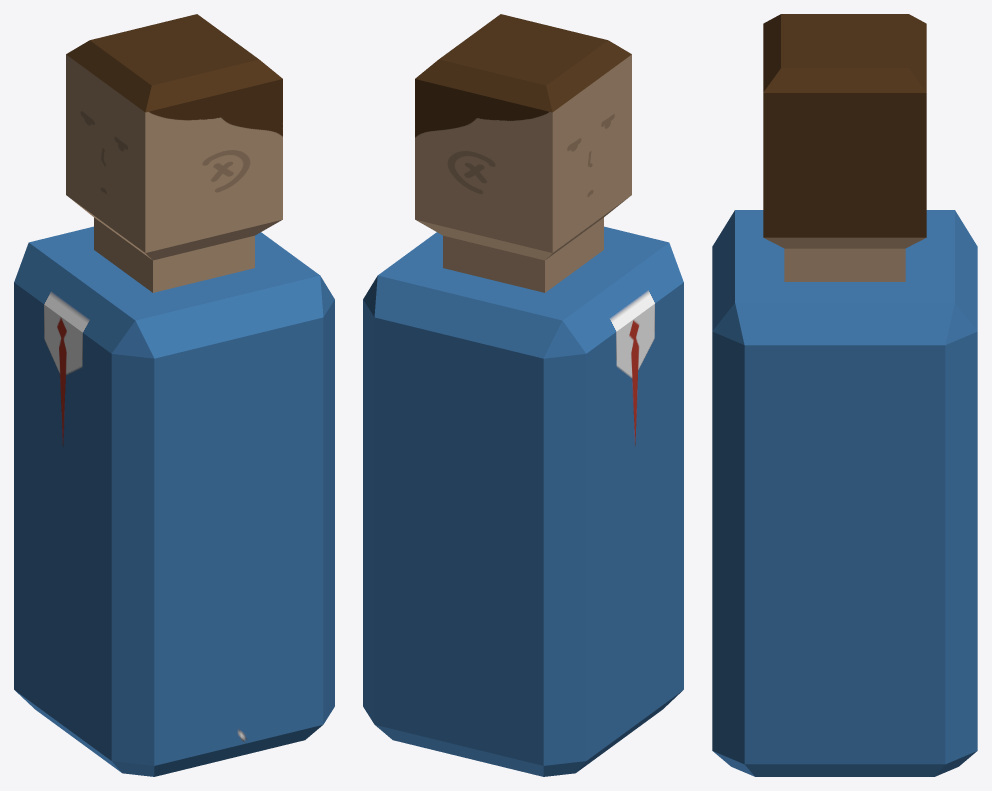
Rendered from jury4.glb.
The picture shows the model from 3 angles, left to right: view 1: azimuth 30°, elevation 25°; view 2: azimuth 150°, elevation 25°; view 3: azimuth 270°, elevation 25°; orthographic projection. The views are drawn at different scales.
Visible parts, largest first — view 1: Cube.002; view 2: Cube.002; view 3: Cube.002.
Part boxes in pixels (box(x1,y1,x2,y2)): Cube.002: box(14, 14, 334, 776); Cube.002: box(363, 14, 683, 776); Cube.002: box(712, 14, 977, 776).
Bounding box in the file's own units: 0.6964 × 1.99 × 0.6964.
Materials: 1 (1 with a texture image).
